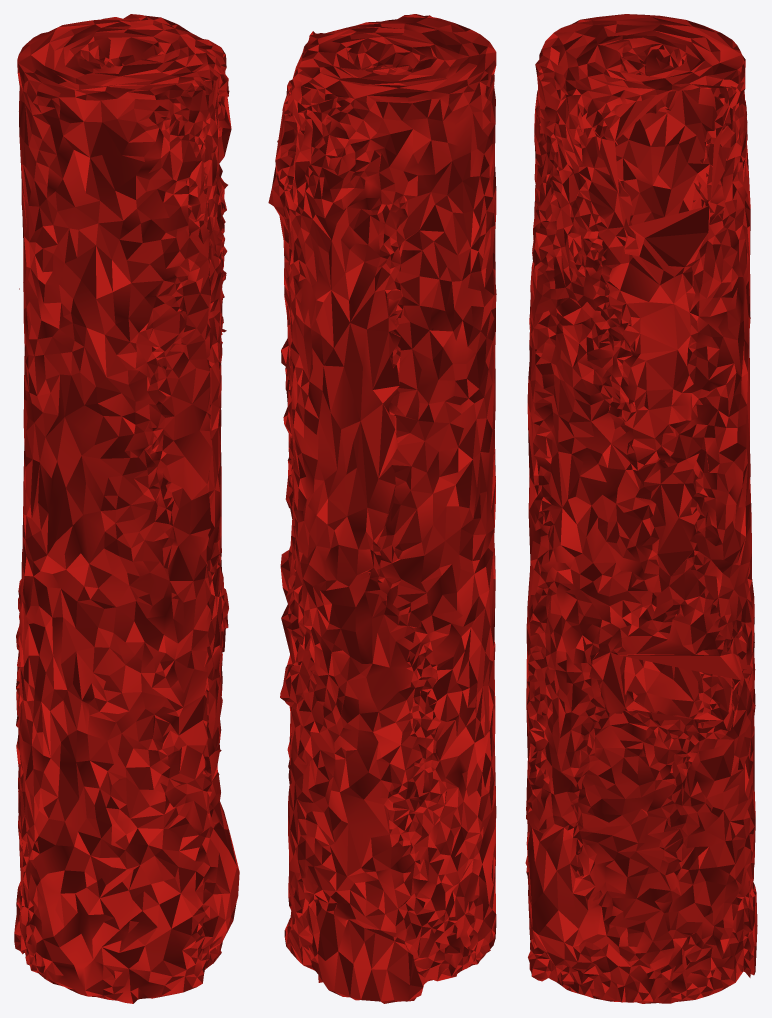
File: g1_14_yogamat_props.glb
The picture shows the model from 3 angles, left to right: view 1: azimuth 30°, elevation 25°; view 2: azimuth 150°, elevation 25°; view 3: azimuth 270°, elevation 25°; orthographic projection. The views are drawn at different scales.
Parts seen in each view (by area): view 1: o00; view 2: o00; view 3: o00.
Boxes of the visible parts, x1,y1,x2,y2 form: o00: [14, 14, 239, 1003]; o00: [268, 14, 496, 1003]; o00: [525, 14, 757, 1003].
Size of the model in its own units: 0.1604 by 0.7201 by 0.1627.
